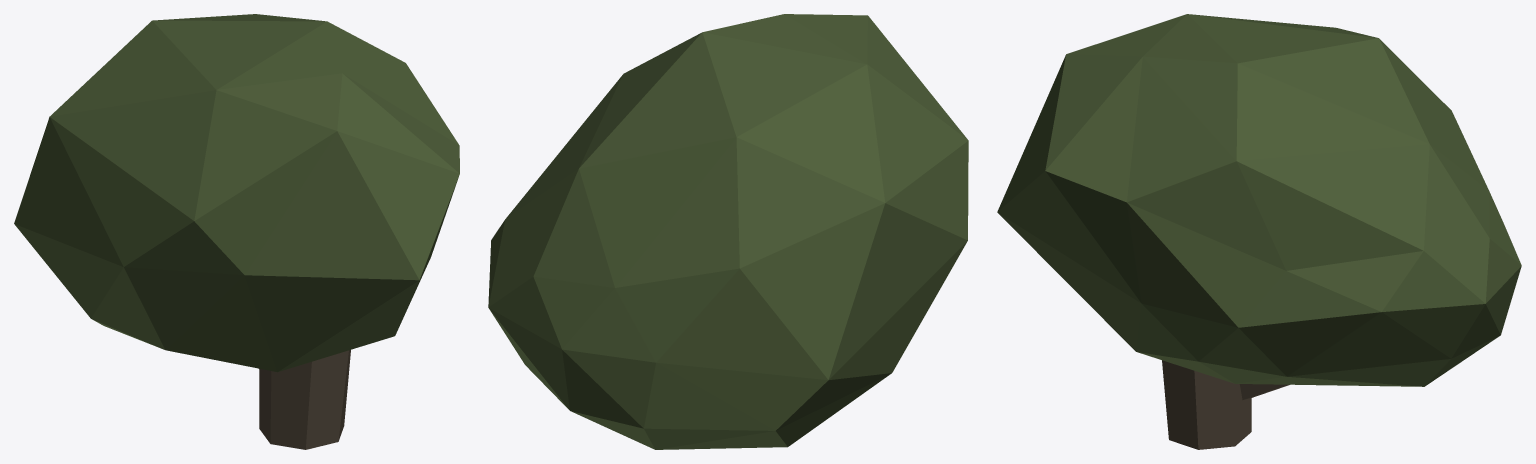
The model's file is Bushes D, 1.fbx.
The picture shows the model from 3 angles, left to right: view 1: azimuth 30°, elevation 25°; view 2: azimuth 150°, elevation 25°; view 3: azimuth 270°, elevation 25°; orthographic projection. The views are drawn at different scales.
Parts seen in each view (by area): view 1: Icosphere.001; view 2: Icosphere.001; view 3: Icosphere.001.
Part boxes in pixels (bbox=[...]): Icosphere.001: bbox=[14, 14, 459, 449]; Icosphere.001: bbox=[488, 14, 968, 449]; Icosphere.001: bbox=[997, 14, 1521, 449].
Bounding box in the file's own units: 398 × 404 × 495.
